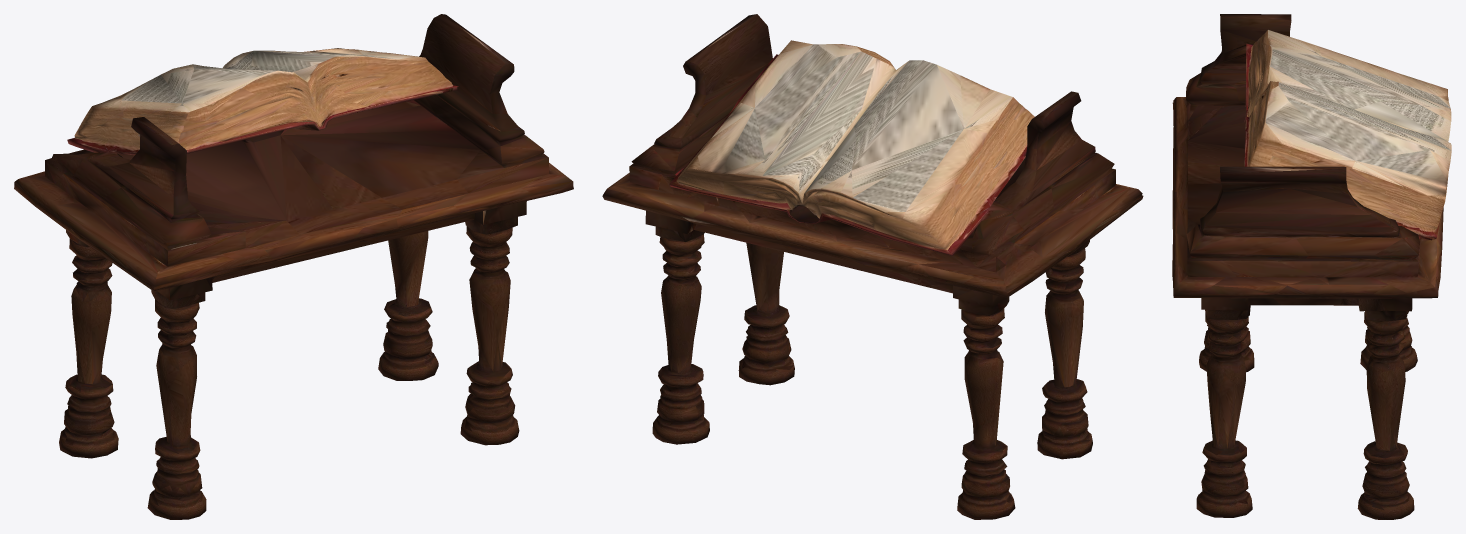
File: lore_book.glb
3 renders of one model, left to right at view 1: azimuth 30°, elevation 25°; view 2: azimuth 150°, elevation 25°; view 3: azimuth 270°, elevation 25°, orthographic. The views are drawn at different scales.
Visible parts, largest first — view 1: lore_book; view 2: lore_book; view 3: lore_book.
Boxes of the visible parts, bbox=[...] form: lore_book: bbox=[14, 14, 573, 519]; lore_book: bbox=[602, 14, 1143, 519]; lore_book: bbox=[1172, 14, 1451, 519].
Size of the model in its own units: 1.08 by 0.9447 by 0.6534.
Materials: 1 (1 with a texture image).
